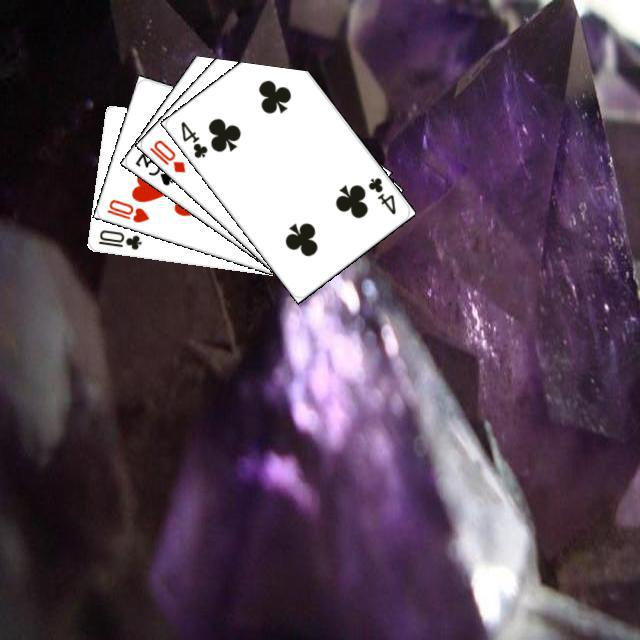10c: (93, 225, 143, 251)
10d: (144, 135, 187, 175)
10h: (102, 194, 151, 224)
3s: (130, 148, 176, 187)
4c: (363, 172, 398, 217), (175, 116, 209, 160)
